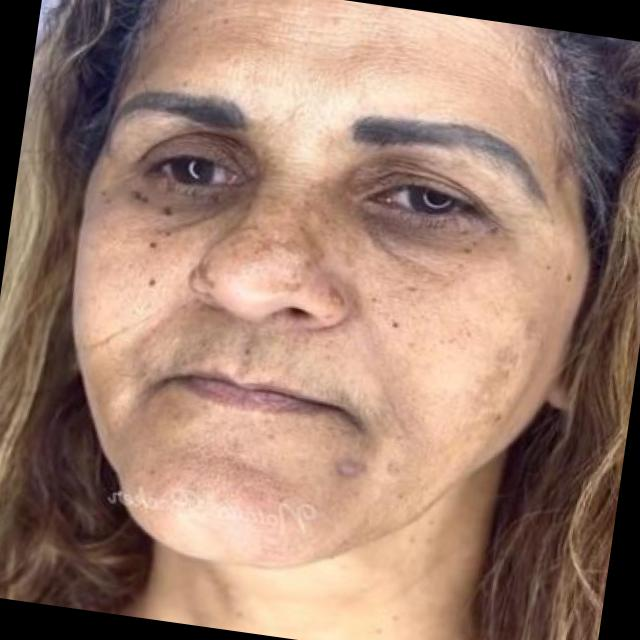melasma: (300, 194, 565, 500), (95, 158, 251, 413), (183, 171, 348, 317)
